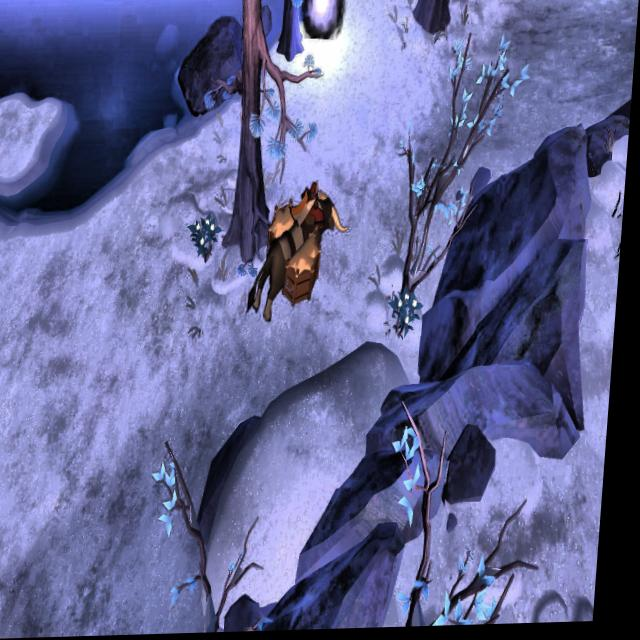fiber_t4: (392, 288, 428, 337), (190, 214, 224, 264)
